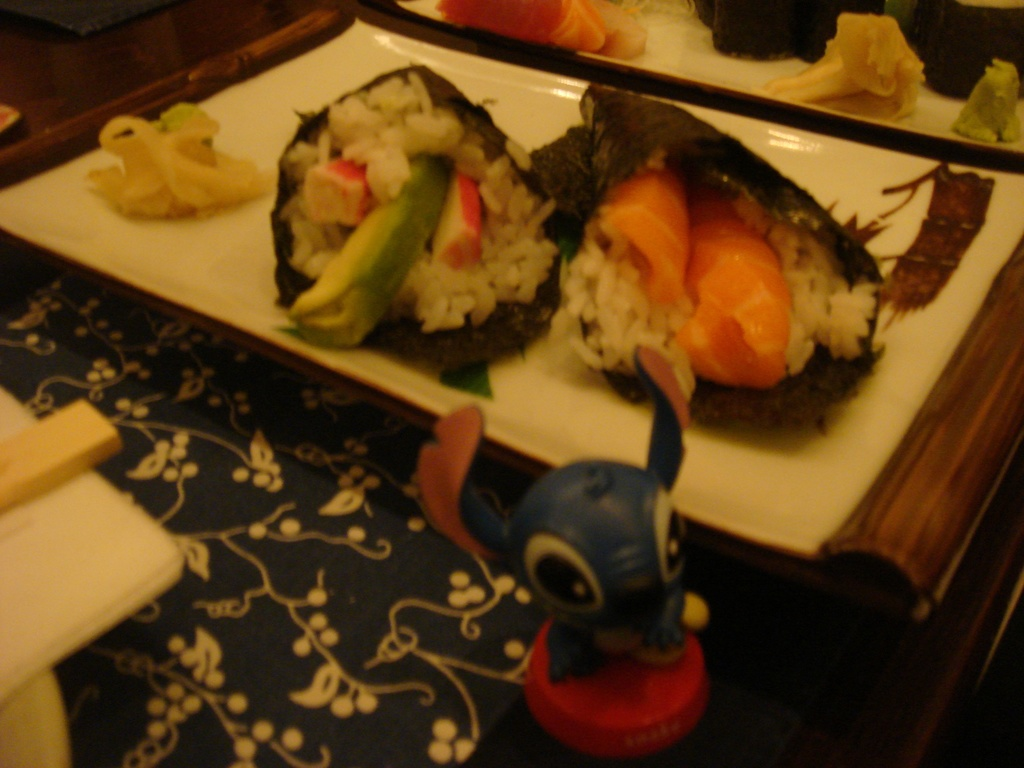sushi: (566, 74, 890, 425), (261, 70, 564, 358)
